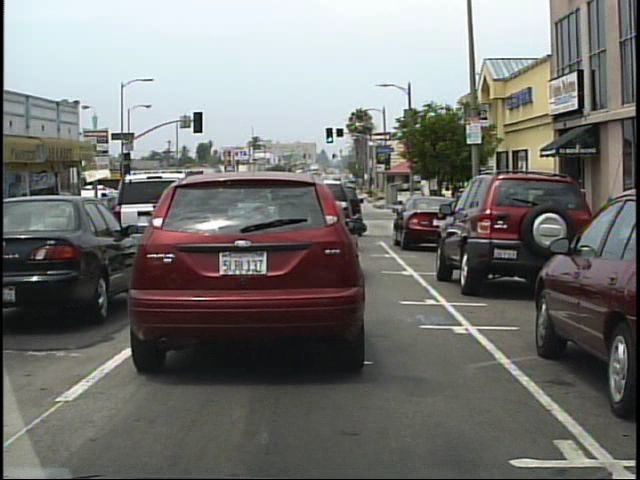person: (433, 189, 446, 225), (427, 191, 437, 225)
